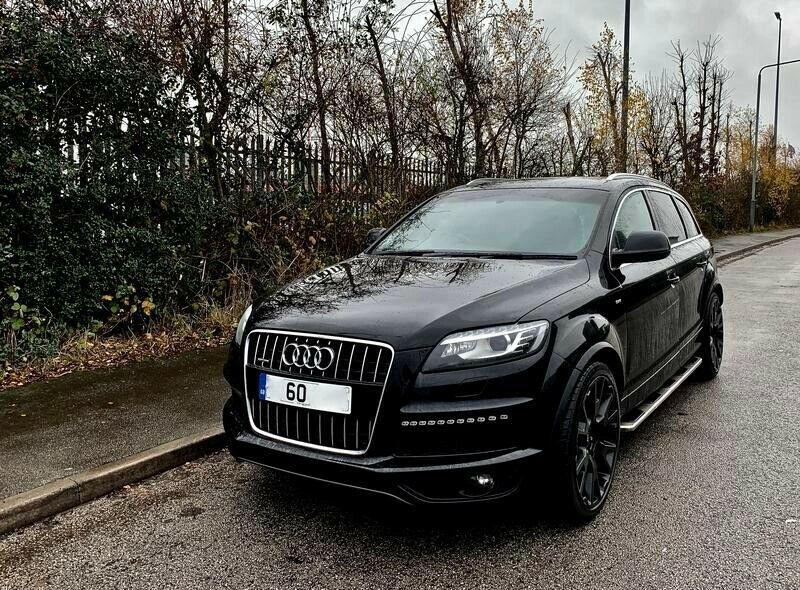audi: (274, 339, 338, 374)
